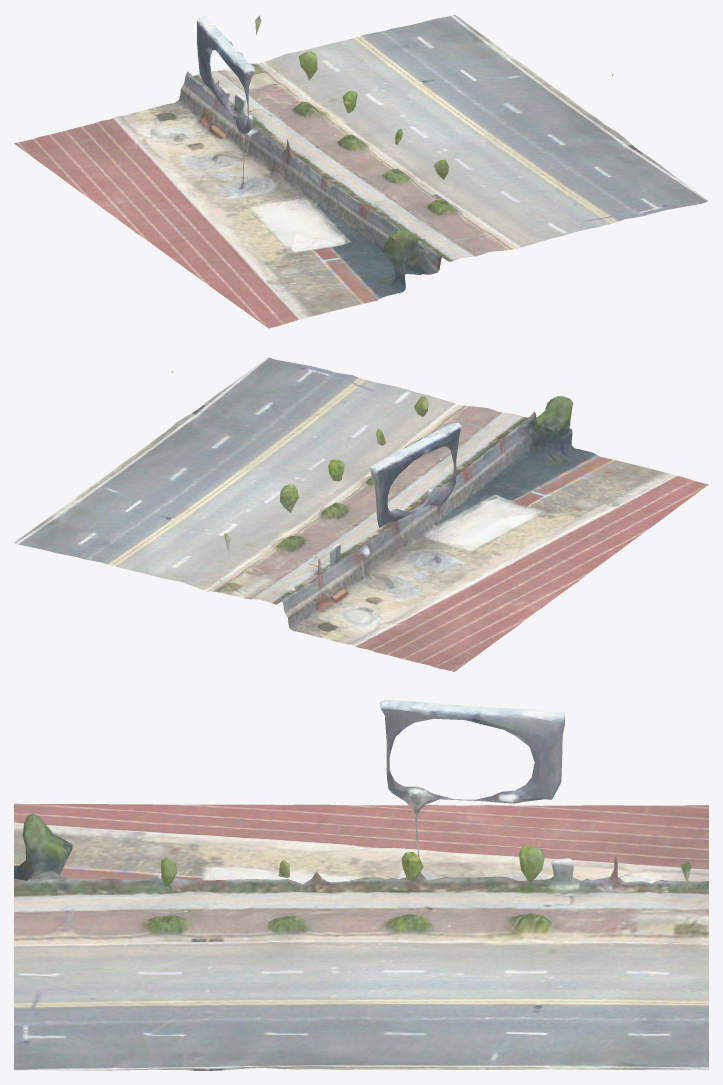
File: Tile_+004_+002_L21_0001300.glb
3 views of the same model, one above another, from view 1: azimuth 30°, elevation 25°; view 2: azimuth 150°, elevation 25°; view 3: azimuth 270°, elevation 25° (orthographic). The views are drawn at different scales.
Parts seen in each view (by area): view 1: rtc; view 2: rtc; view 3: rtc.
Boxes of the visible parts, x1,y1,x2,y2 form: rtc: (14, 14, 708, 328); rtc: (14, 357, 708, 671); rtc: (14, 700, 708, 1070).
Bounding box in the file's own units: 25.63 × 7.47 × 25.63.
Materials: 1 (1 with a texture image).
